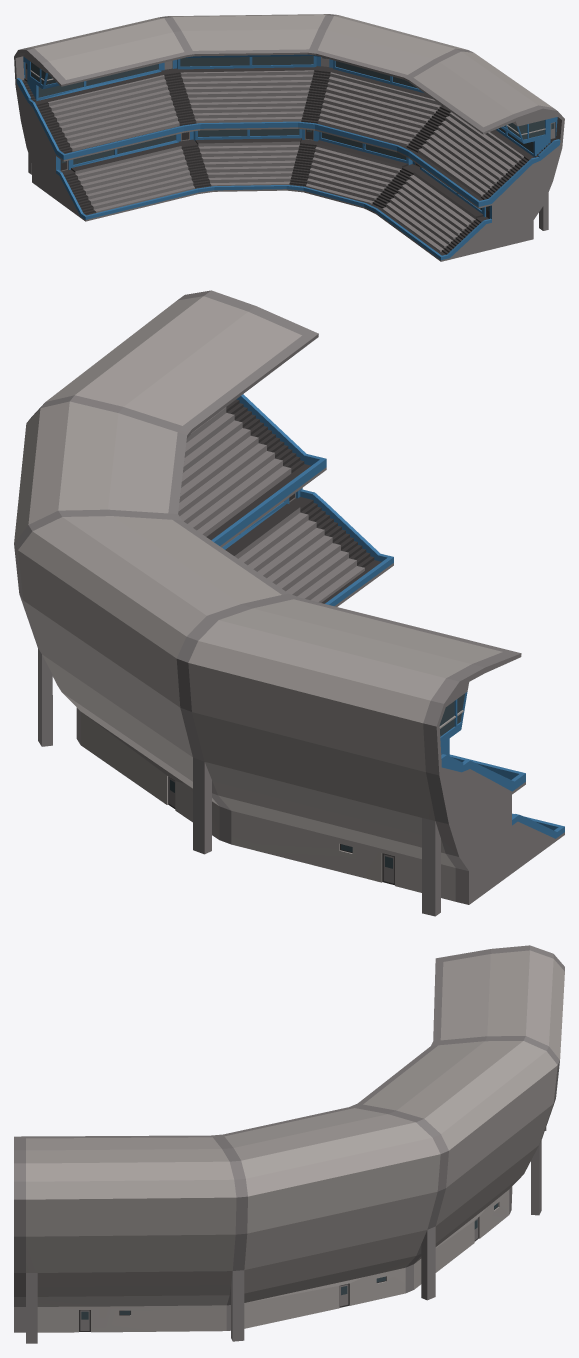
Rendered from racing_tribune-curve-double.fbx.
3 renders of one model, top to bottom at view 1: azimuth 30°, elevation 25°; view 2: azimuth 150°, elevation 25°; view 3: azimuth 270°, elevation 25°, orthographic. The views are drawn at different scales.
Visible parts, largest first — view 1: racing_tribune_curve_double; view 2: racing_tribune_curve_double; view 3: racing_tribune_curve_double.
Part boxes in pixels (left/top/right/bottom): racing_tribune_curve_double: left=14, top=14, right=564, bottom=261; racing_tribune_curve_double: left=14, top=290, right=564, bottom=916; racing_tribune_curve_double: left=14, top=945, right=564, bottom=1343.
Bounding box in the file's own units: 200 × 70.28 × 200.
